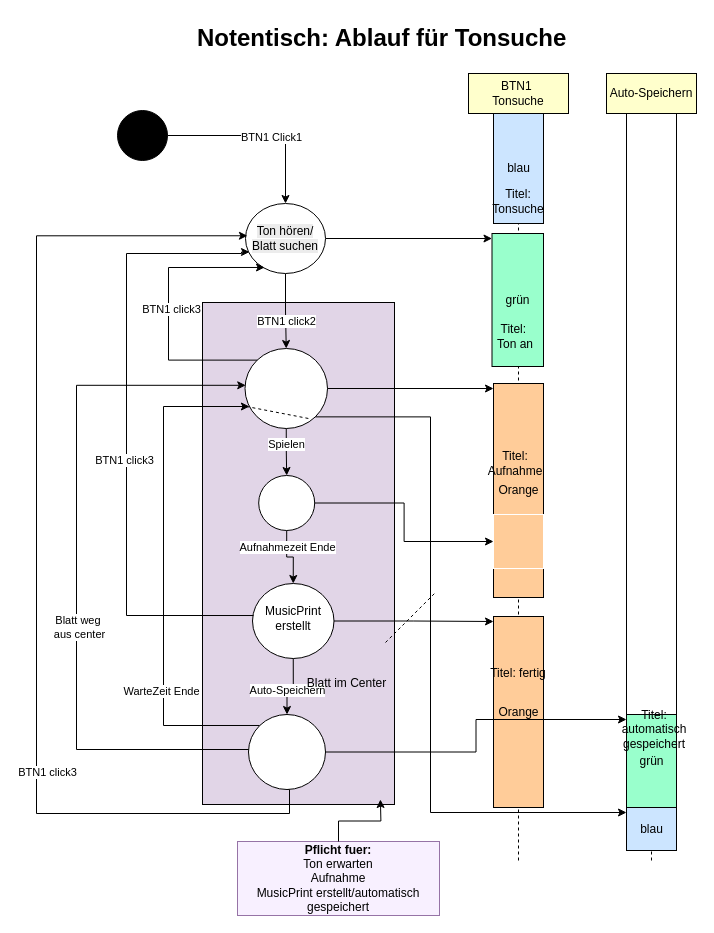
Image size: 714x933. Some labels were removed from this diagram. Each missing label, with the box of its shape:
Aufnahme startet: (258, 474, 315, 530)
MusicPrint automatisch gespeichert: (248, 714, 326, 790)
Rahmen Weiss: (492, 514, 544, 568)
Start: (116, 110, 168, 160)
Ton erwarten: (244, 348, 328, 428)
unsichtbar: (626, 112, 676, 714)
